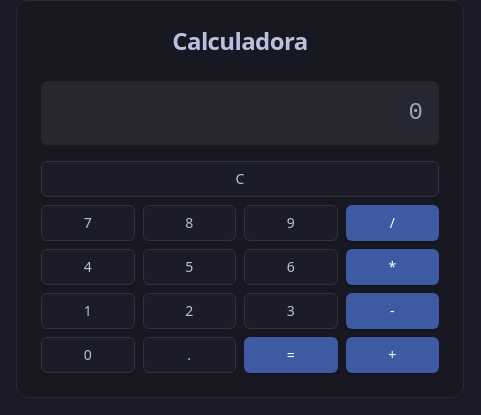
Scenario: Calculator Component › displays number when a button is clicked
Click the button "1": (88, 311) [41,293,135,329]
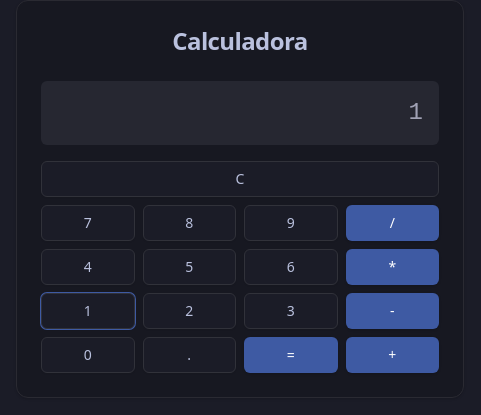
Expected: the text "1" is shown, [409,99,423,126]
